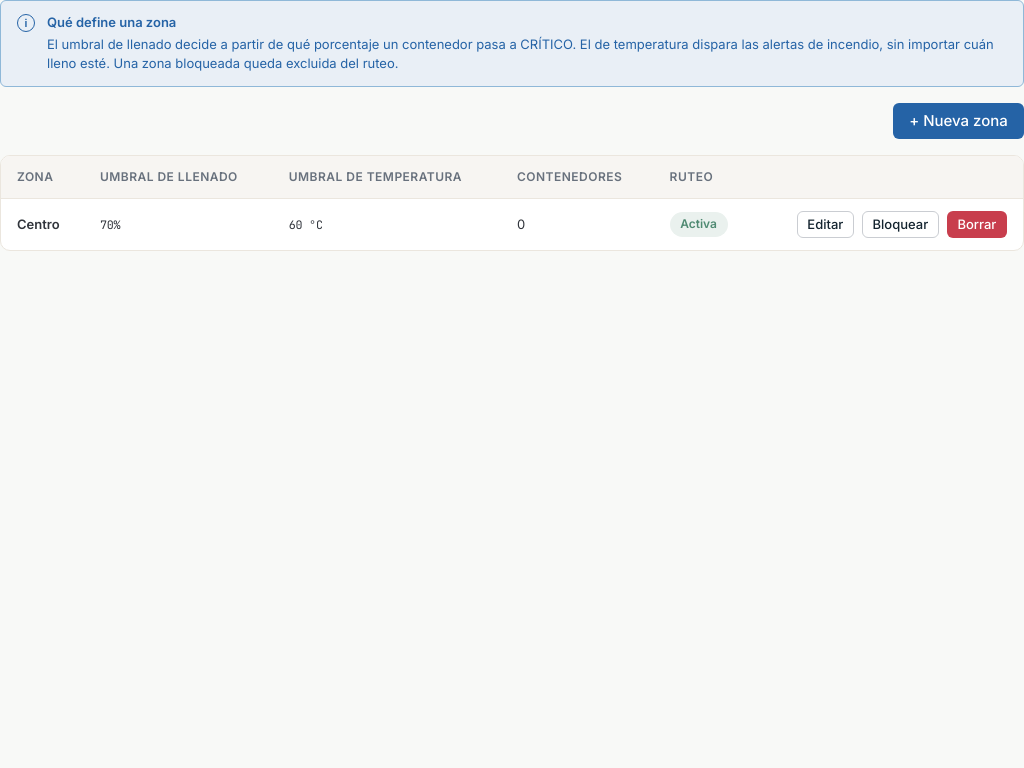
CU-02 zonas y umbrales › el nombre duplicado se muestra con su codigo de negocio
The width and height of the screenshot is (1024, 768).
Click the button "+ Nueva zona".
click(958, 121)  # box [893,103,1023,139]
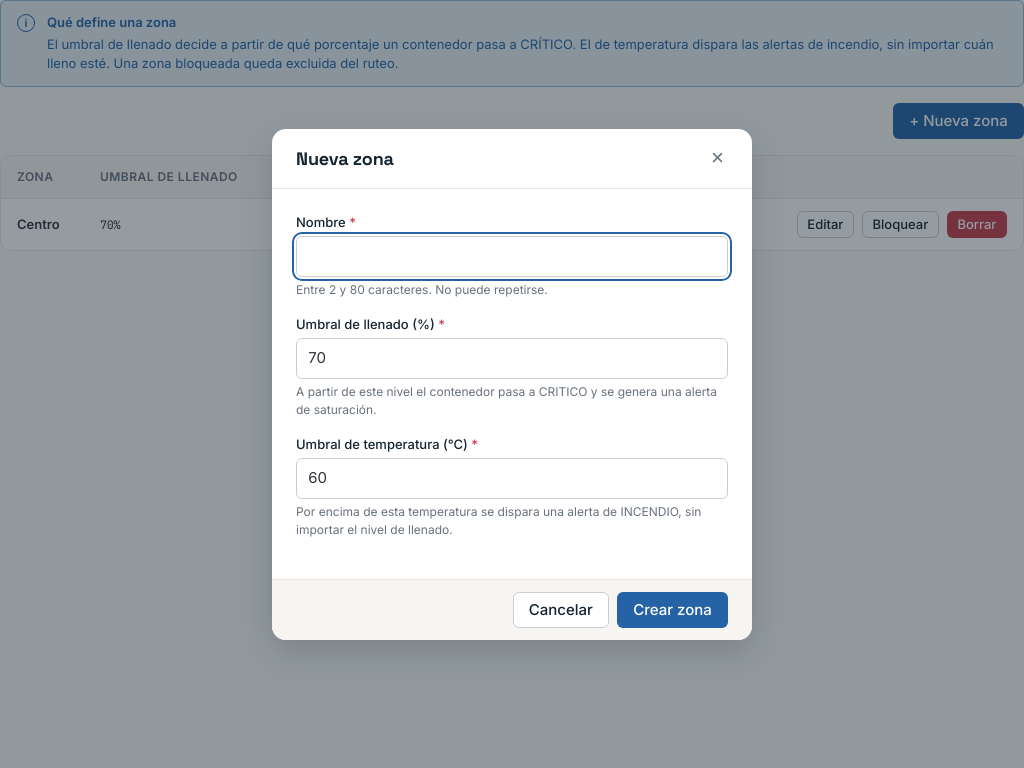
Type "Centro" into the field labelled "Nombre *".
click(512, 256); type("Centro")  # box [296,236,728,276]
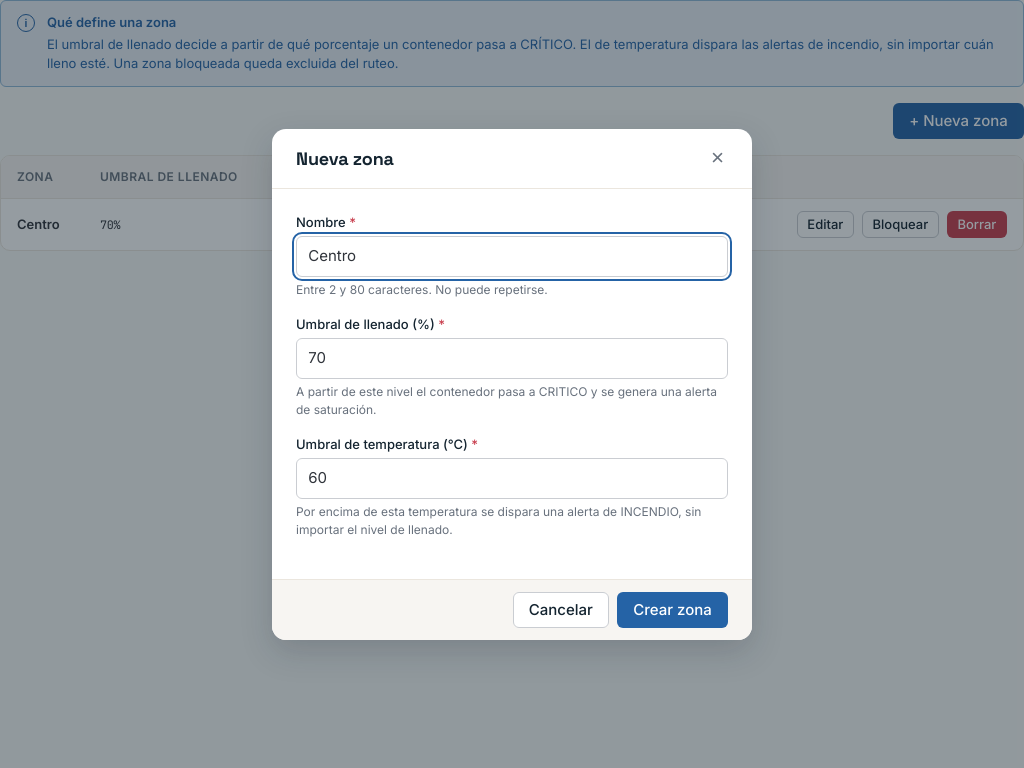
Click the button "Crear zona".
click(673, 610)  # box [617,592,728,628]
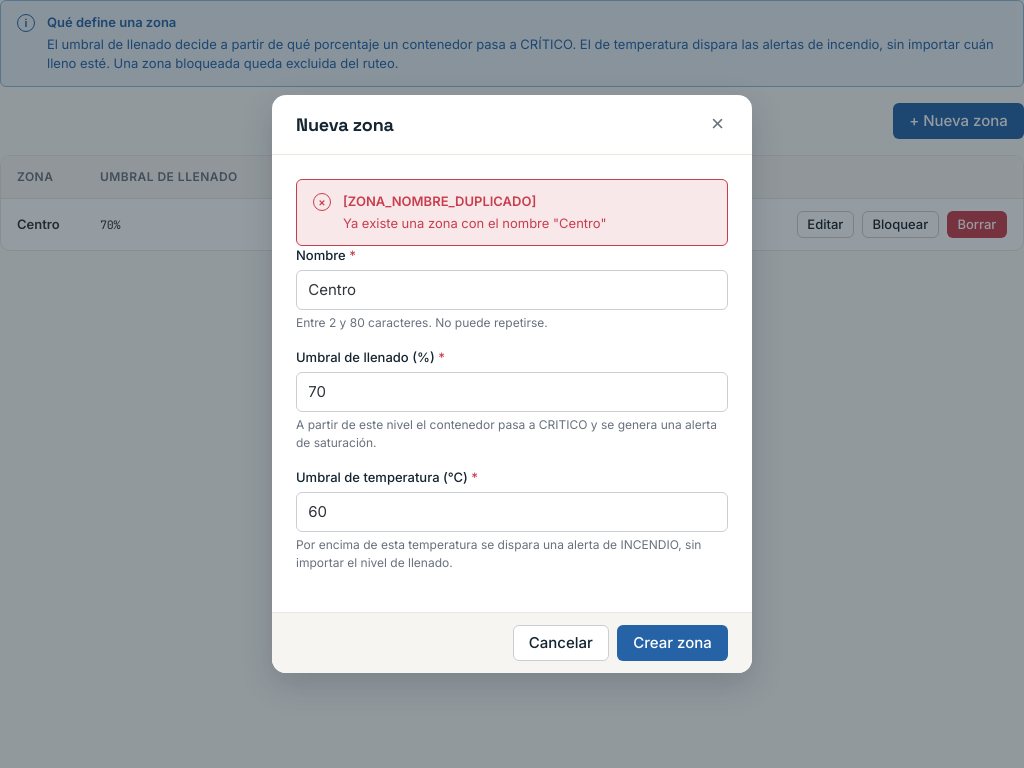
Now the text "[ZONA_NOMBRE_DUPLICADO]" is shown, box [343,193,536,209]
